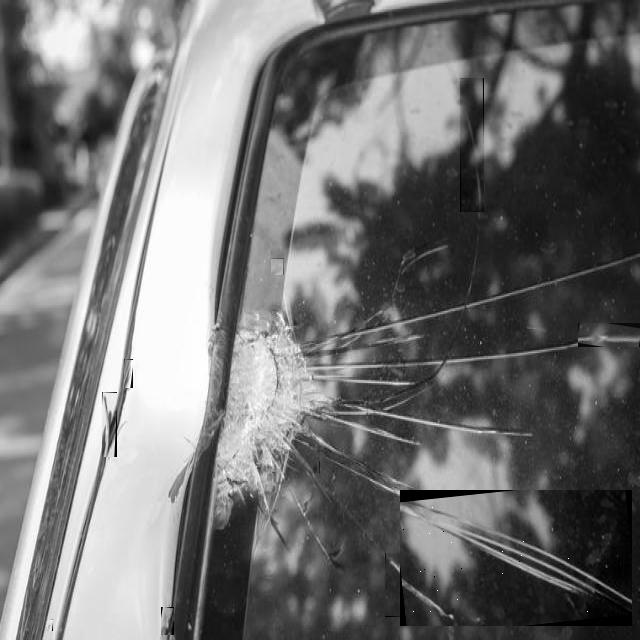Dent: (400, 490, 632, 626), (385, 553, 448, 617), (460, 78, 484, 212), (443, 574, 480, 626), (578, 323, 640, 347), (102, 392, 117, 457), (161, 607, 174, 635), (124, 359, 133, 388), (271, 258, 284, 275), (313, 461, 320, 473), (47, 619, 53, 631)
